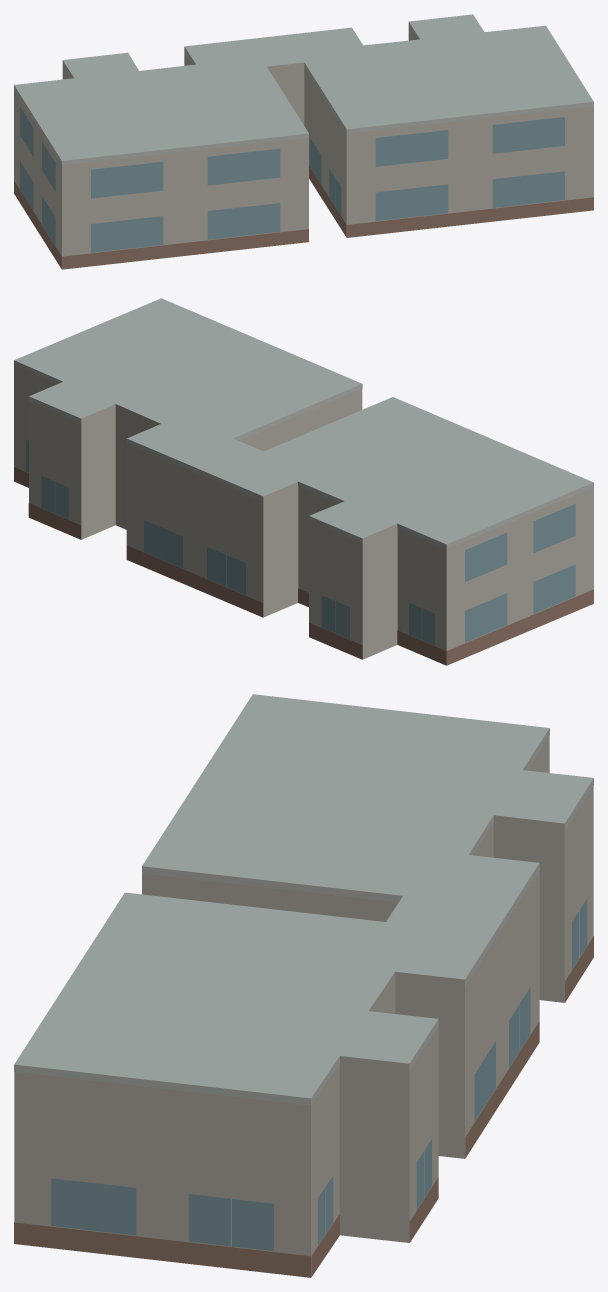
File: survey-upis-33017598.glb
3 renders of one model, top to bottom at view 1: azimuth 30°, elevation 25°; view 2: azimuth 150°, elevation 25°; view 3: azimuth 270°, elevation 25°, orthographic. The views are drawn at different scales.
Visible parts, largest first — view 1: survey-upis-33017598.tmp; view 2: survey-upis-33017598.tmp; view 3: survey-upis-33017598.tmp.
Part boxes in pixels (<box>): survey-upis-33017598.tmp: <box>14,14,593,269</box>; survey-upis-33017598.tmp: <box>14,298,593,665</box>; survey-upis-33017598.tmp: <box>14,694,593,1277</box>.
Size of the model in its own units: 29.5 by 6.1 by 17.88.
